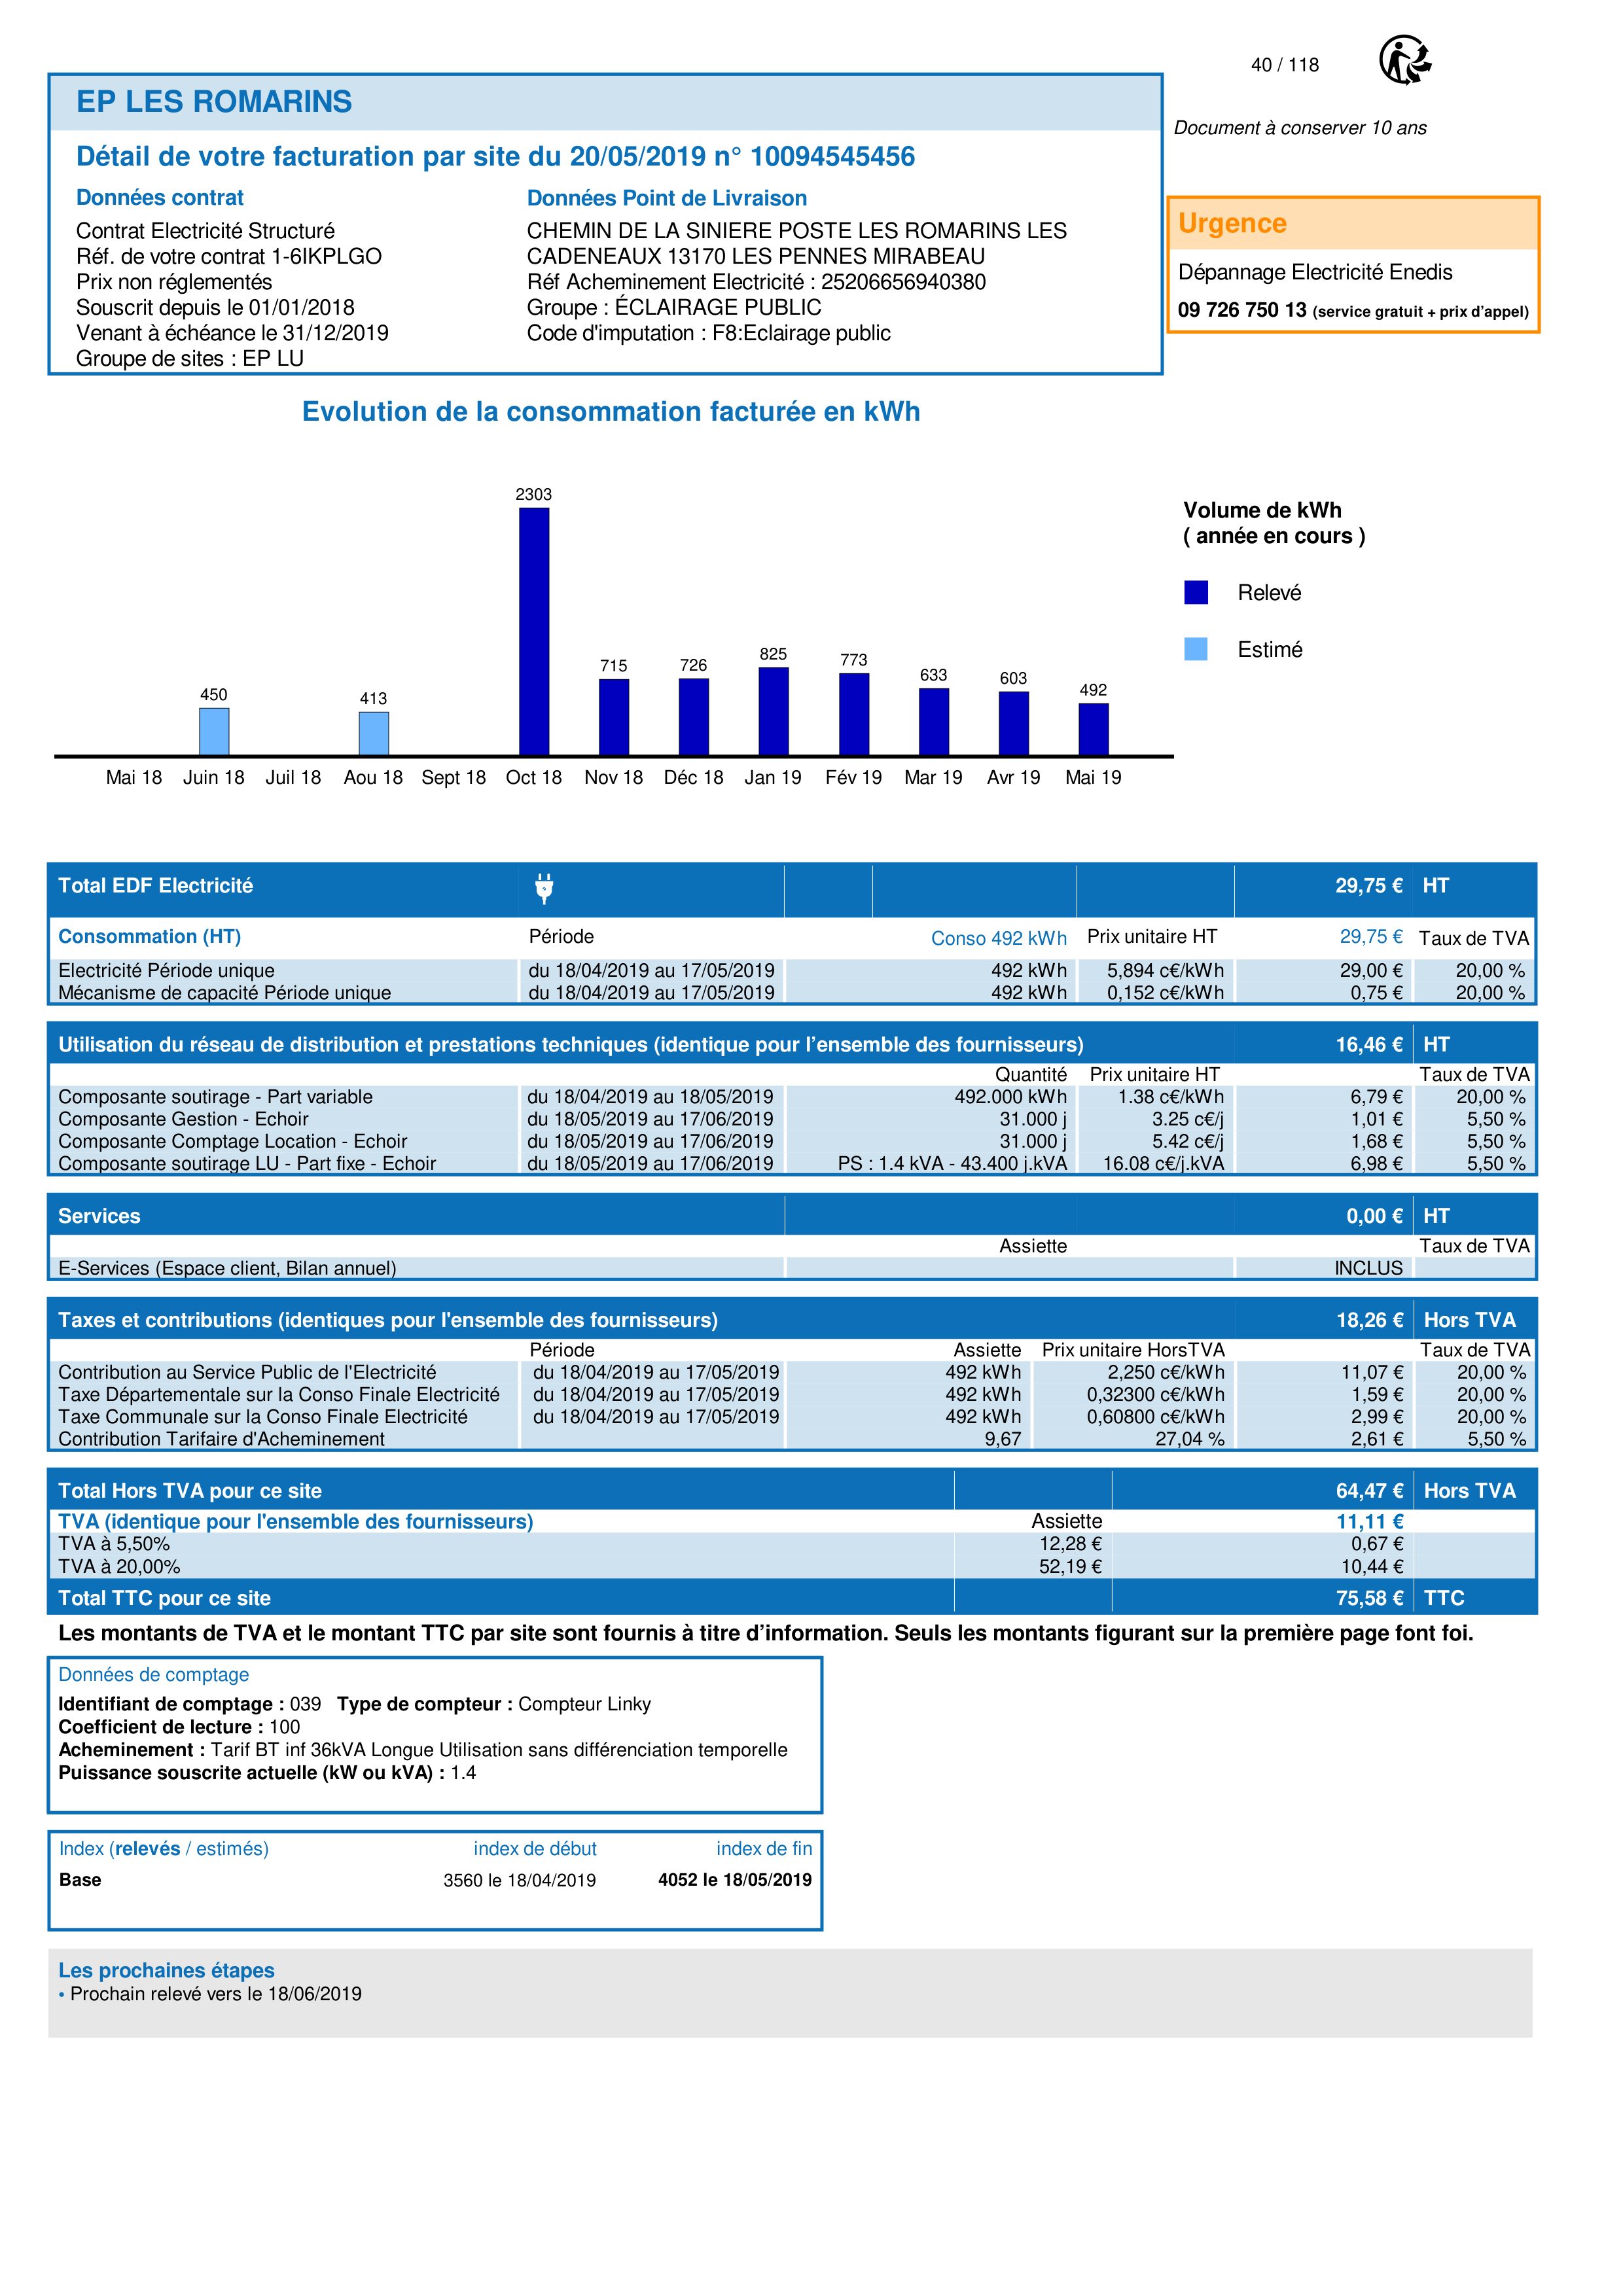area: (48, 1829, 824, 1932)
type_indicator: (48, 1831, 279, 1865)
